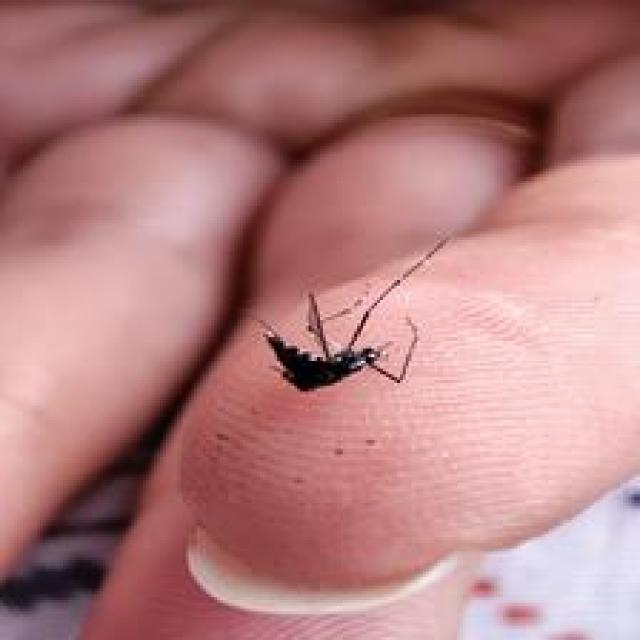Aedes albopictus: (257, 229, 454, 394)
